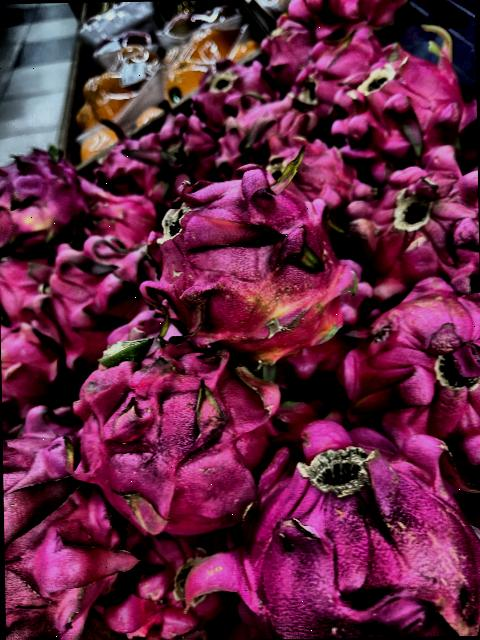buah-naga-matang: (201, 409, 480, 640), (64, 330, 262, 522), (142, 170, 346, 356), (345, 278, 480, 483), (1, 415, 117, 640), (330, 40, 474, 162), (350, 152, 479, 286), (107, 517, 222, 640), (39, 244, 148, 353), (0, 148, 92, 251), (122, 111, 214, 192), (0, 325, 70, 418), (223, 94, 318, 158), (298, 40, 371, 111), (86, 191, 162, 245), (196, 56, 270, 108), (256, 14, 310, 84), (0, 249, 51, 318)
